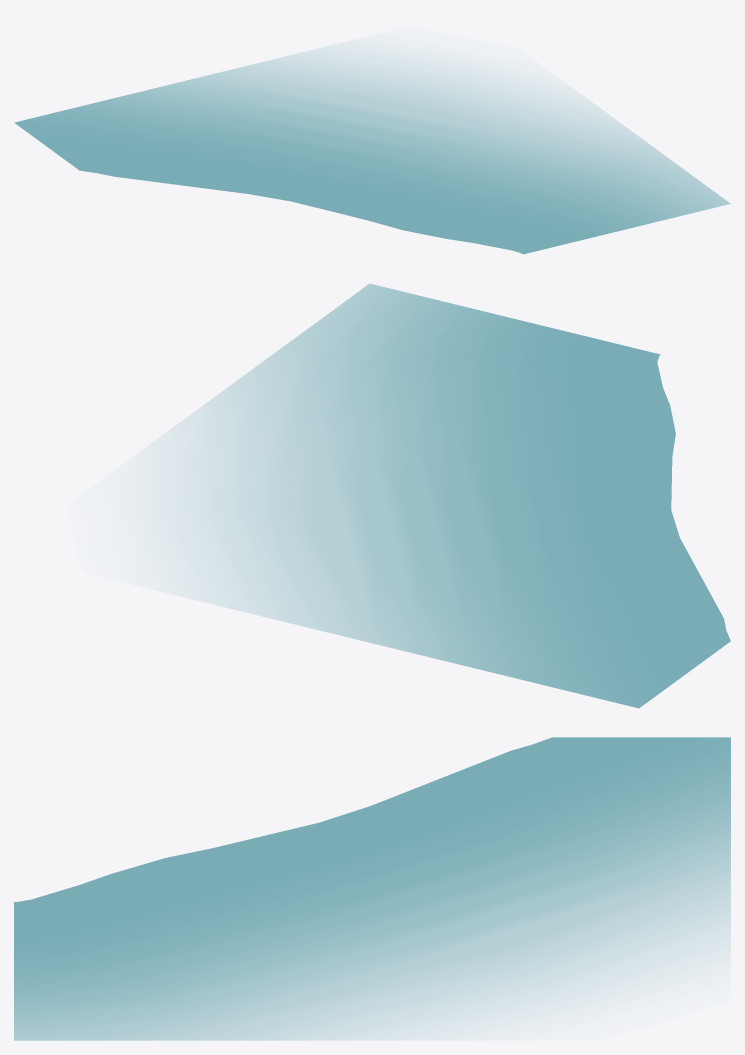
The picture shows the model from 3 angles, top to bottom: view 1: azimuth 30°, elevation 25°; view 2: azimuth 150°, elevation 25°; view 3: azimuth 270°, elevation 25°; orthographic projection. The views are drawn at different scales.
Visible parts, largest first — view 1: city; view 2: city; view 3: city.
Part boxes in pixels (x1=…): city: x1=14, y1=43, x2=730, y2=254; city: x1=155, y1=283, x2=730, y2=708; city: x1=14, y1=737, x2=730, y2=1040.
Size of the model in its own units: 500 by 0 by 500.
